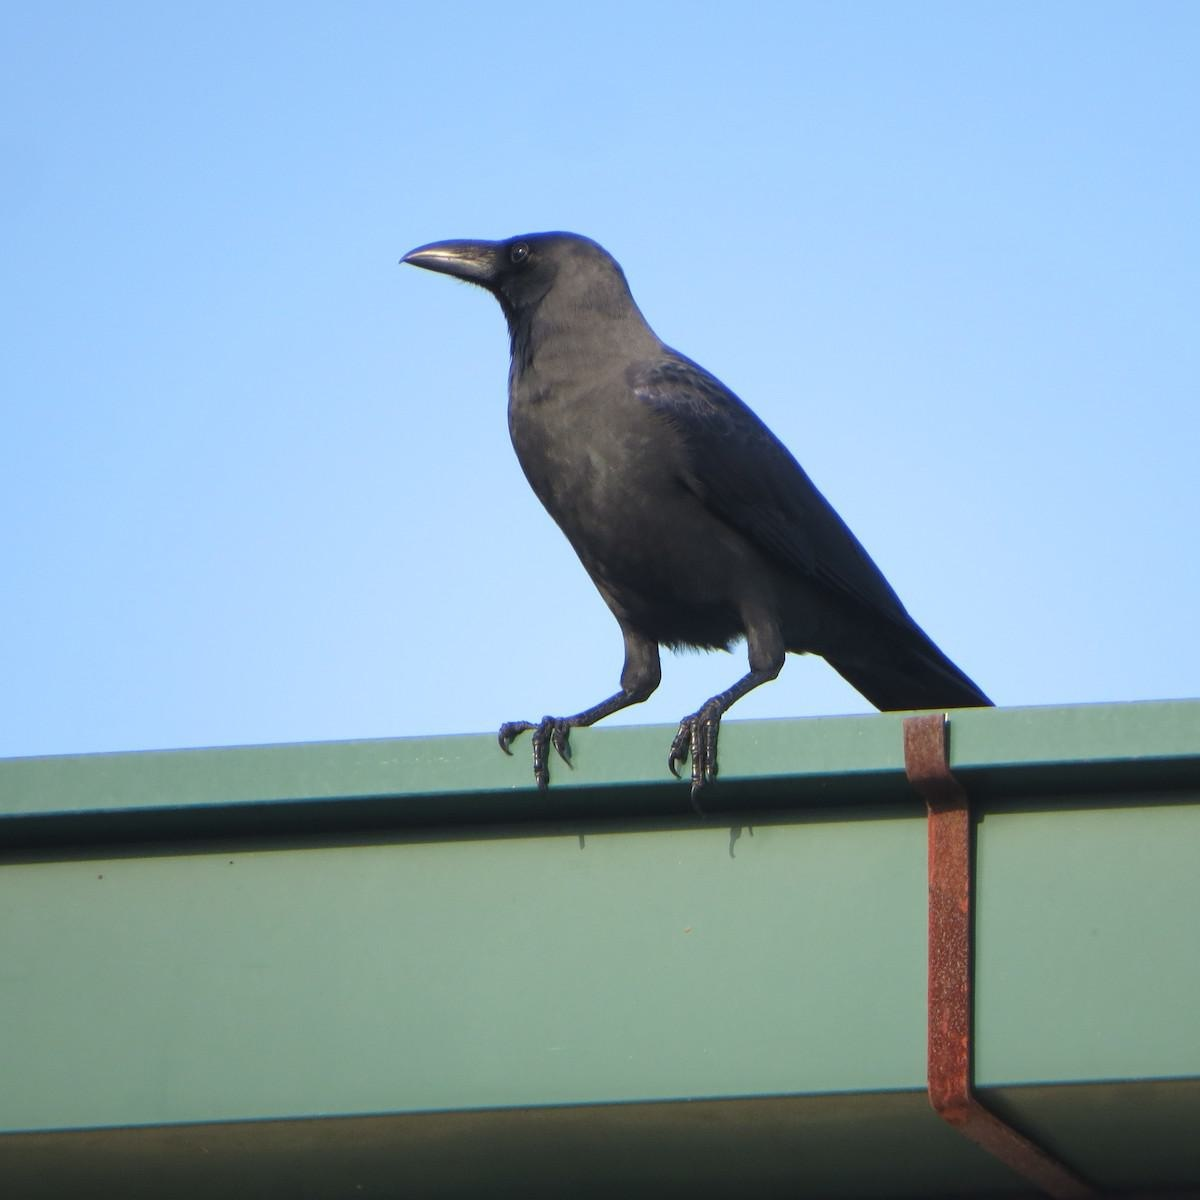crow: (380, 200, 1022, 770)
